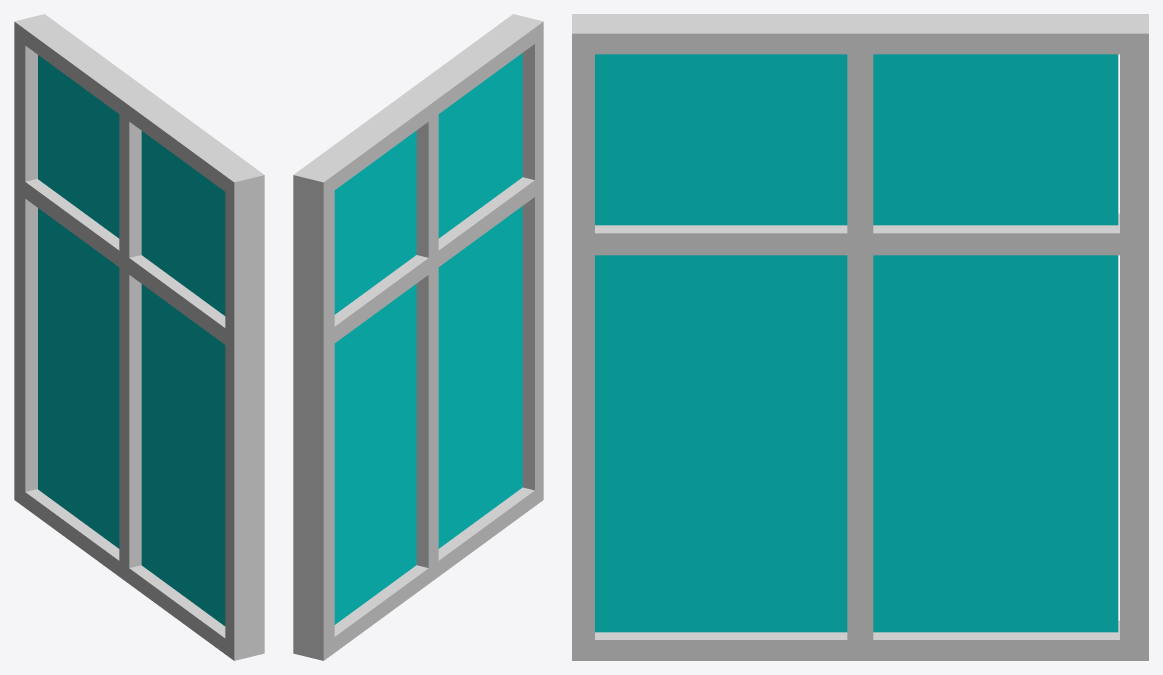
The model's file is window.fbx.
3 renders of one model, left to right at view 1: azimuth 30°, elevation 25°; view 2: azimuth 150°, elevation 25°; view 3: azimuth 270°, elevation 25°, orthographic. The views are drawn at different scales.
Visible parts, largest first — view 1: Cube.001, Cube; view 2: Cube.001, Cube; view 3: Cube.001, Cube.
Part boxes in pixels (bbox=[...]): Cube.001: bbox=[38, 55, 225, 625]; Cube: bbox=[14, 14, 264, 660]; Cube.001: bbox=[334, 53, 522, 624]; Cube: bbox=[293, 14, 543, 660]; Cube.001: bbox=[595, 54, 1118, 632]; Cube: bbox=[572, 14, 1148, 660].
Size of the model in its own units: 10 by 150 by 125.
